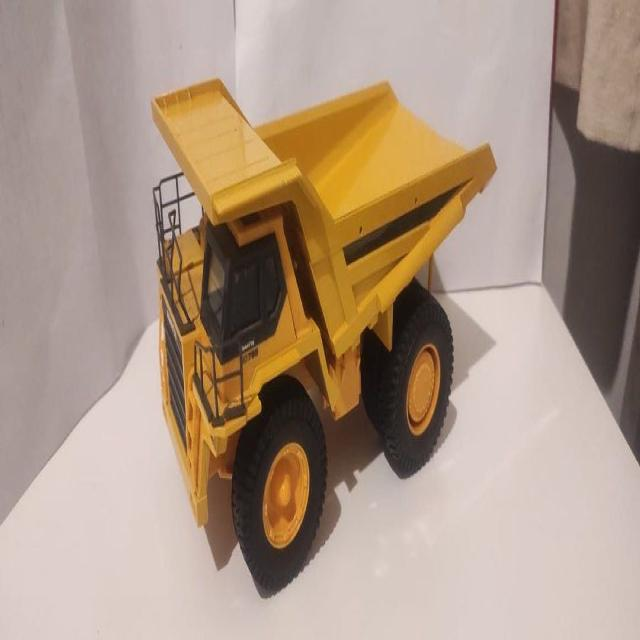dump_truck: (150, 72, 500, 602)
